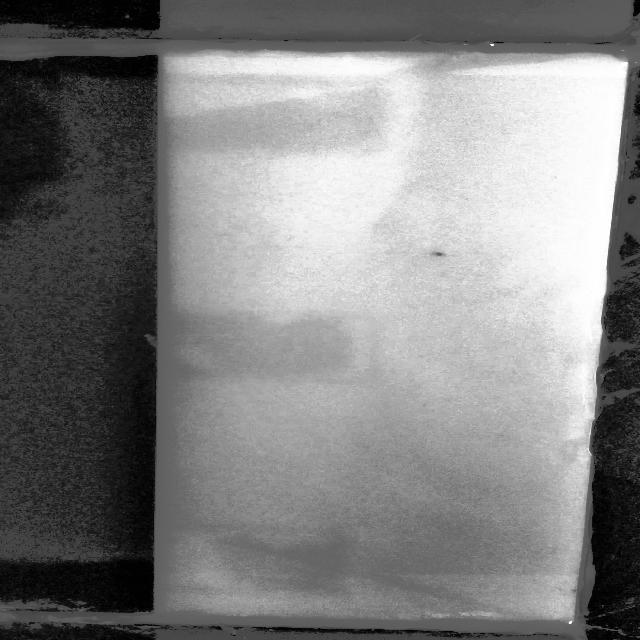shrimp: (424, 244, 464, 261)
